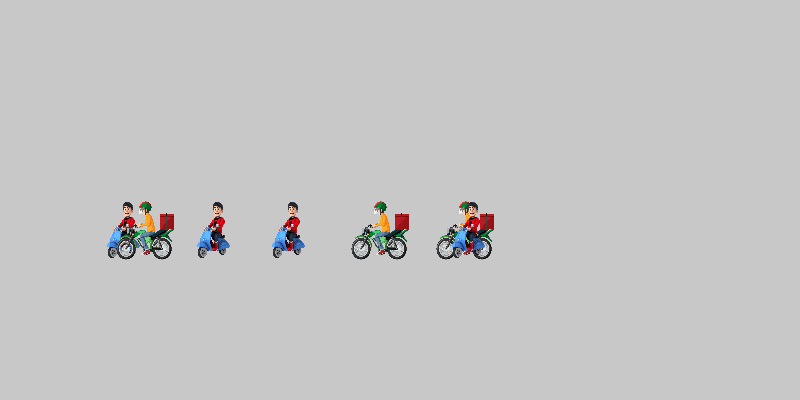helmet: (115, 200, 175, 260), (350, 200, 410, 260), (435, 200, 495, 260)
no_helmet: (95, 200, 155, 260), (185, 200, 245, 260), (260, 200, 320, 260), (440, 200, 500, 260)
